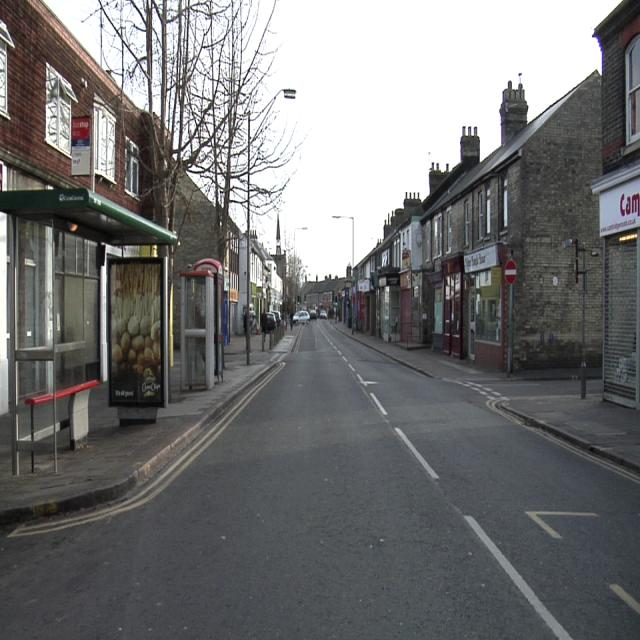Building: (309, 0, 639, 400), (0, 0, 176, 473), (250, 220, 301, 332), (224, 220, 248, 334), (178, 185, 214, 256)
Car: (294, 310, 309, 323)
Road: (0, 320, 636, 625)
Tree: (84, 1, 274, 225)
